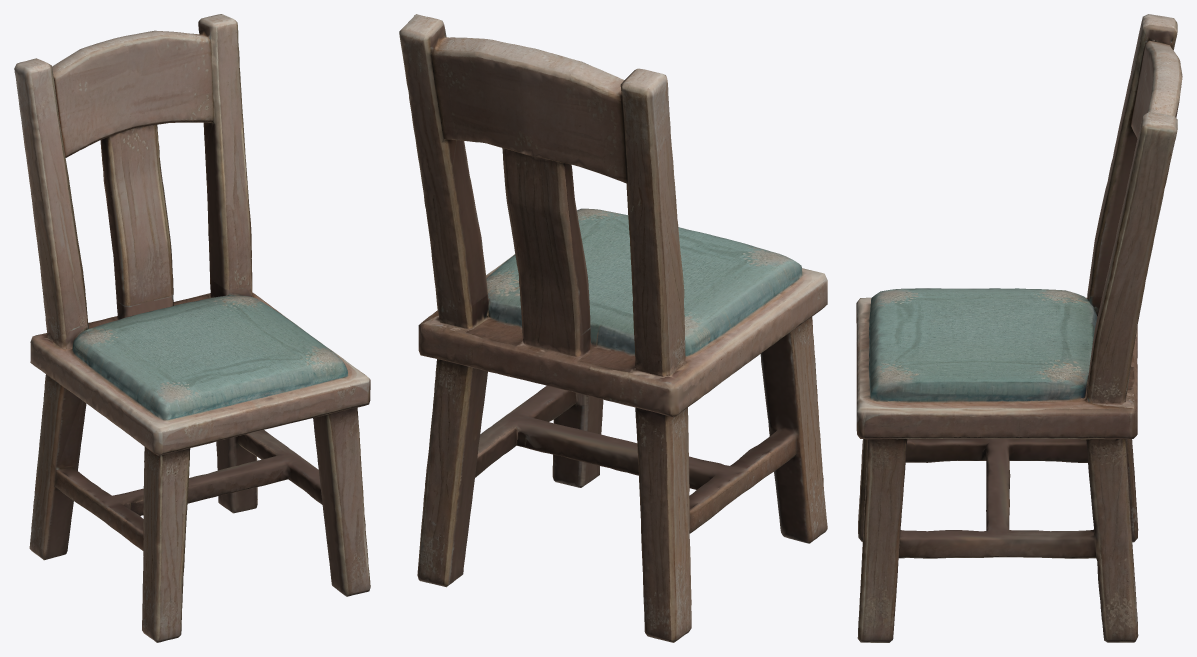
File: Furn_DiningChair.fbx
3 views of the same model, side by side, from view 1: azimuth 30°, elevation 25°; view 2: azimuth 150°, elevation 25°; view 3: azimuth 270°, elevation 25° (orthographic). The views are drawn at different scales.
Parts seen in each view (by area): view 1: texture_mapping; view 2: texture_mapping; view 3: texture_mapping.
Part boxes in pixels (x1,y1,x2,y2): texture_mapping: [14, 14, 370, 642]; texture_mapping: [399, 14, 827, 642]; texture_mapping: [856, 14, 1182, 642].
Size of the model in its own units: 0.476 by 0.5704 by 1.
Materials: 1 (1 with a texture image).
